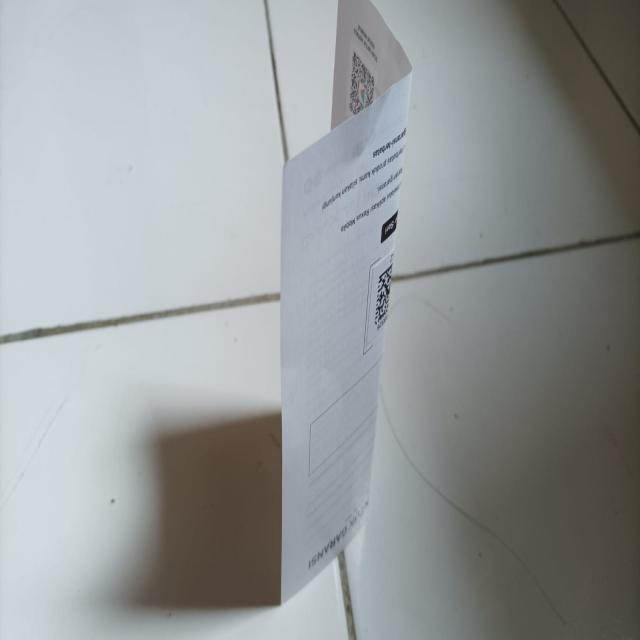Organik: (281, 0, 413, 603)
